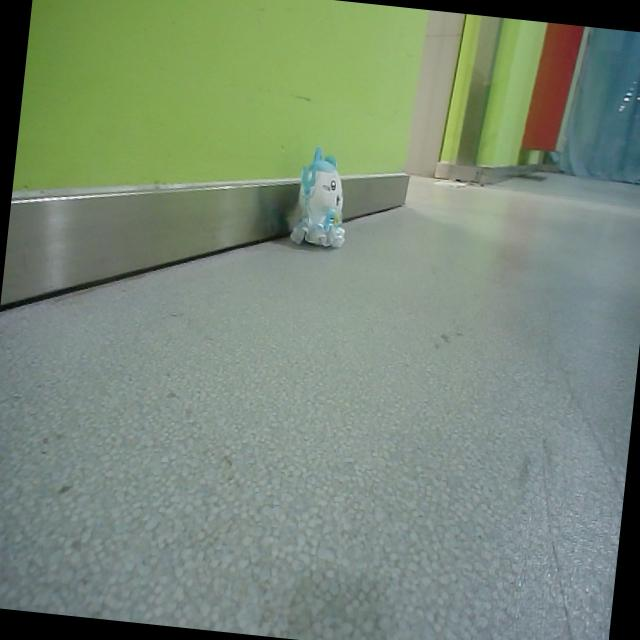xiaoba: (286, 141, 356, 252)
